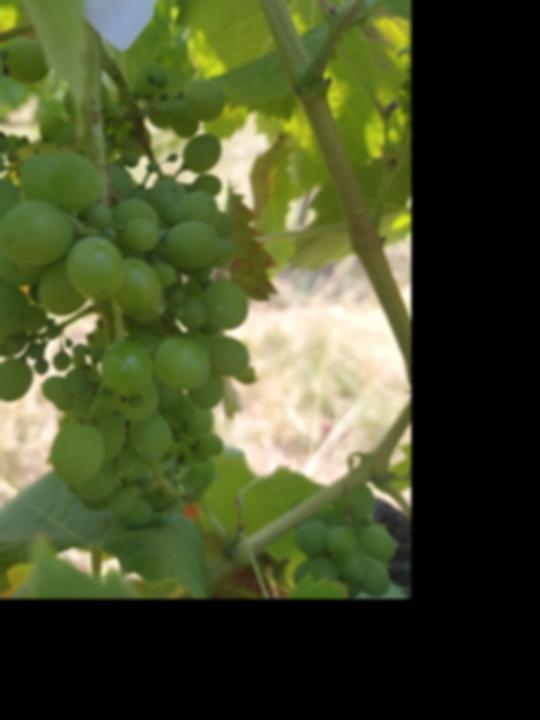grape: (0, 0, 252, 534)
